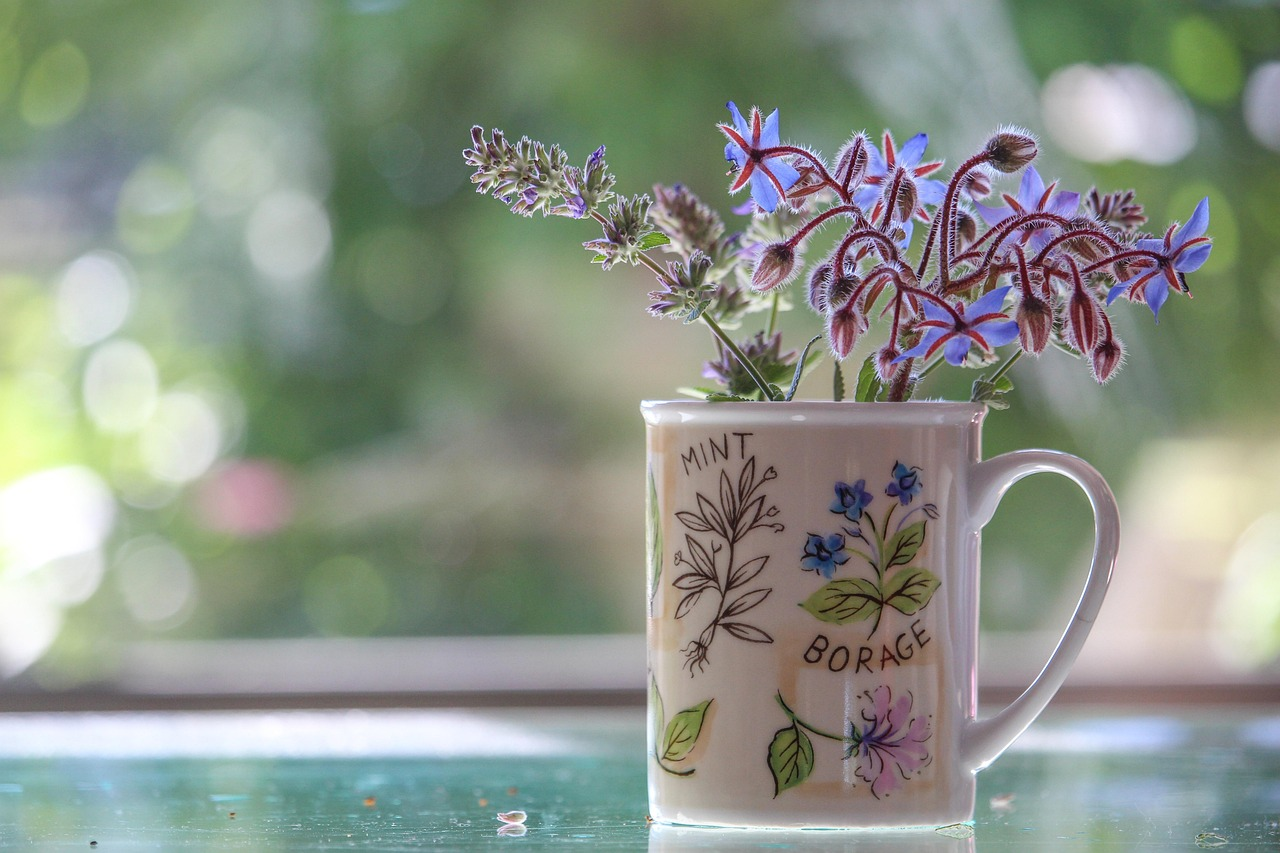mug: (605, 369, 1135, 853)
